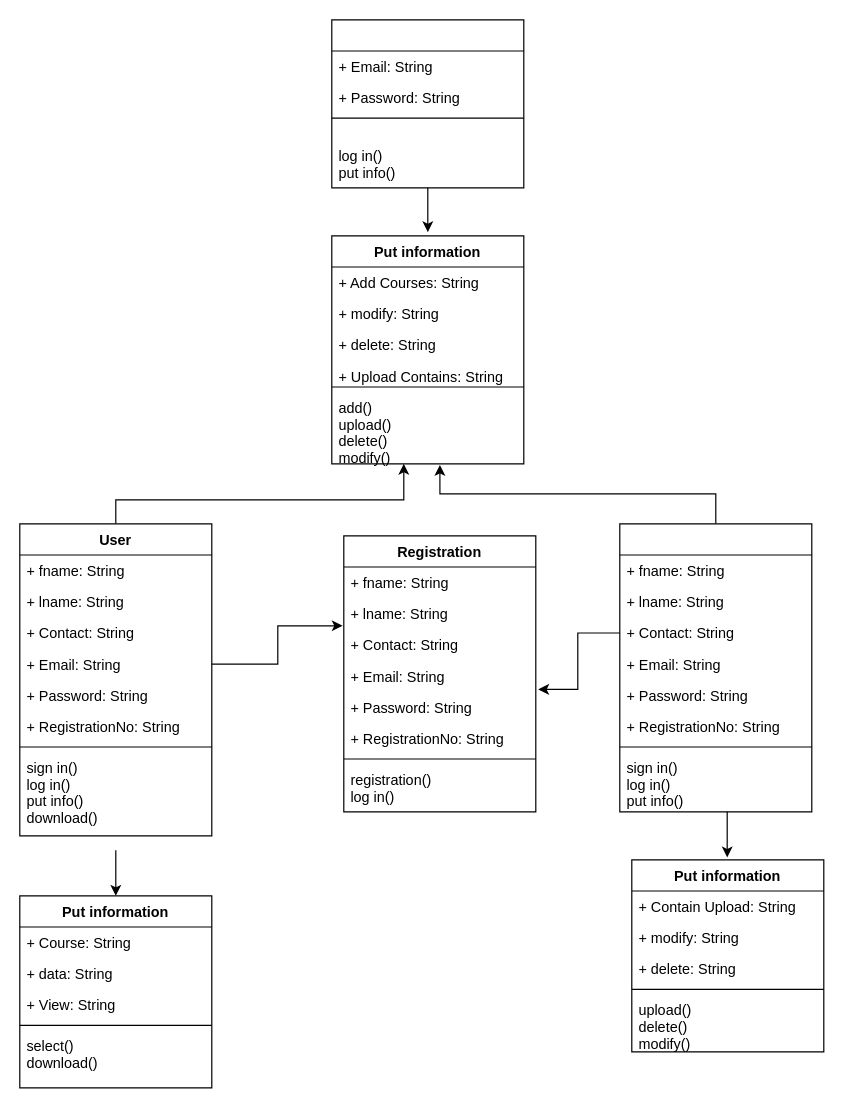
Some shapes in this 844 by 1108 pixel diagram are drawn without their labels. The box of each missing label's shape, as (x1, y1, x2, y2) in pixels:
Admin: (331, 19, 524, 188)
Teacher: (619, 523, 812, 812)
